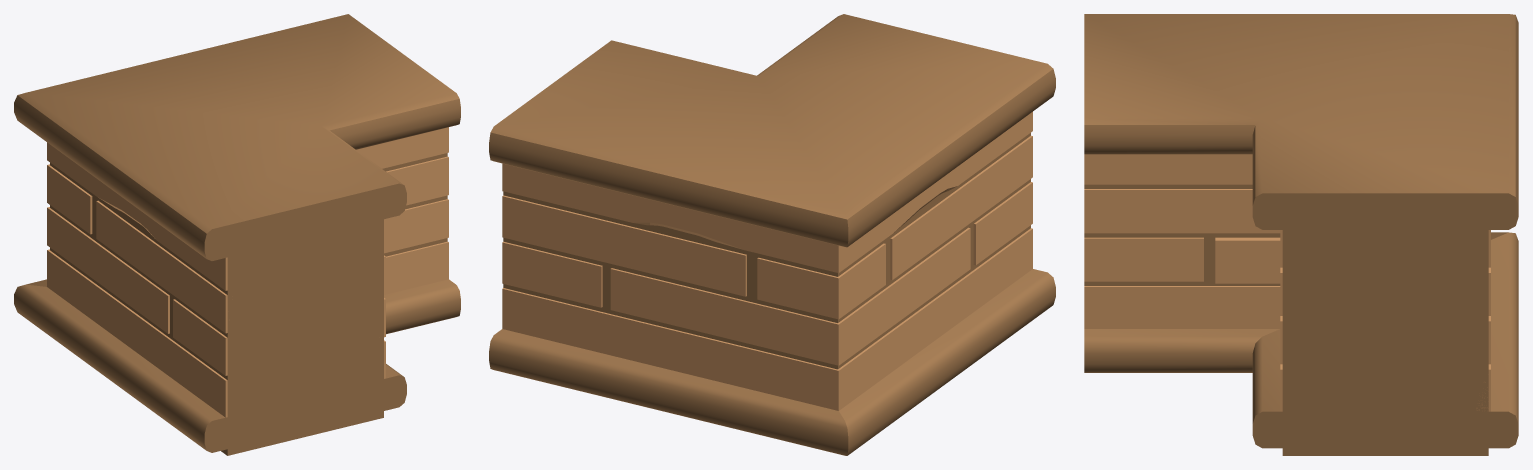
Rendered from Counter Corner.glb.
3 views of the same model, side by side, from view 1: azimuth 30°, elevation 25°; view 2: azimuth 150°, elevation 25°; view 3: azimuth 270°, elevation 25° (orthographic). The views are drawn at different scales.
Visible parts, largest first — view 1: Environment_Counter_Corner; view 2: Environment_Counter_Corner; view 3: Environment_Counter_Corner.
Boxes of the visible parts, x1,y1,x2,y2 form: Environment_Counter_Corner: (14, 14, 460, 455); Environment_Counter_Corner: (489, 14, 1055, 455); Environment_Counter_Corner: (1084, 14, 1518, 455).
Size of the model in its own units: 2.88 by 1.92 by 2.88.
1 material, 1 textured.
